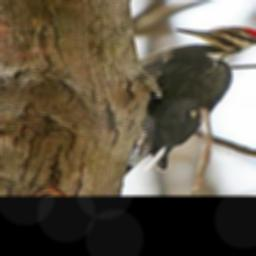Woodpecker: (122, 25, 256, 176)
